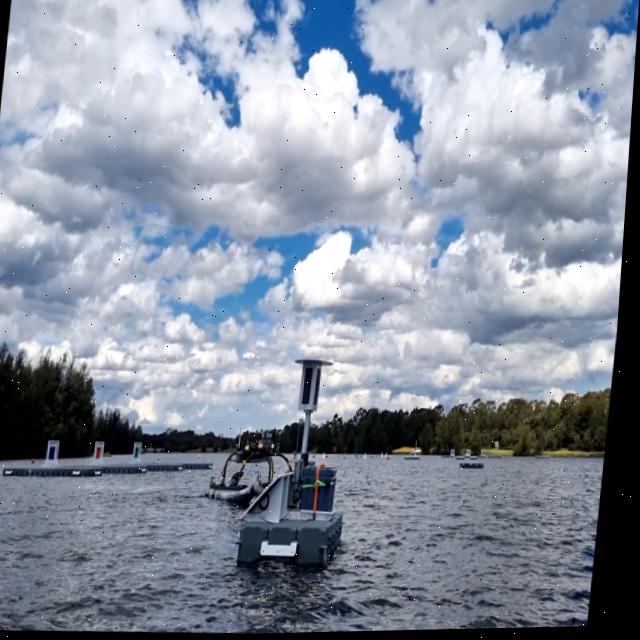led: (305, 366, 321, 409)
